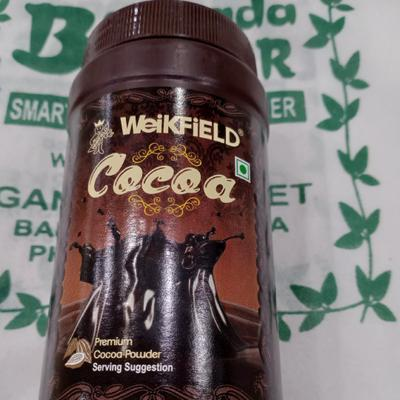Cocoa Powder: (41, 0, 286, 400)
